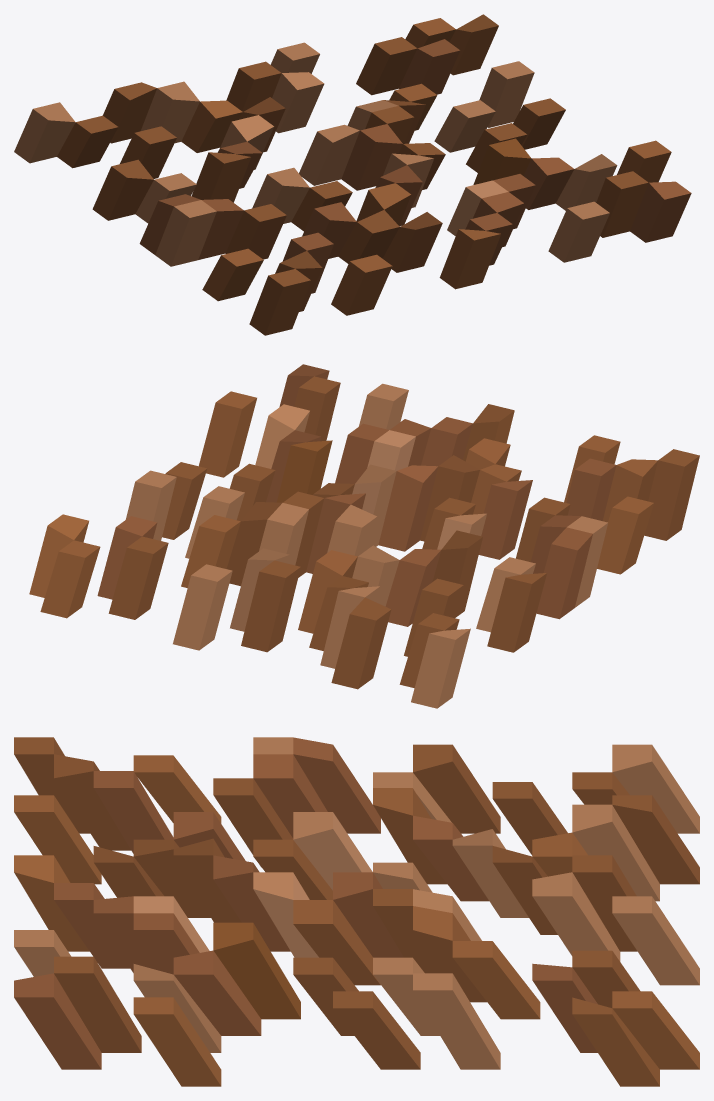
The model's file is Tree.gltf.
The picture shows the model from 3 angles, top to bottom: view 1: azimuth 30°, elevation 25°; view 2: azimuth 150°, elevation 25°; view 3: azimuth 270°, elevation 25°; orthographic projection. The views are drawn at different scales.
Parts seen in each view (by area): view 1: Grass; view 2: Grass; view 3: Grass.
Boxes of the visible parts, x1=… form: Grass: x1=14, y1=14, x2=691, y2=335; Grass: x1=29, y1=364, x2=699, y2=708; Grass: x1=14, y1=737, x2=699, y2=1086.
Size of the model in its own units: 1 by 0.1375 by 1.07.
1 material, 1 textured.
